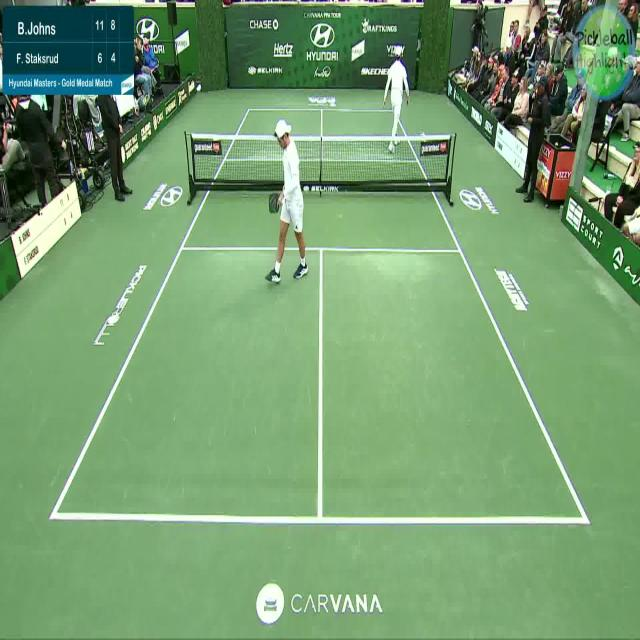Court: (51, 105, 589, 524)
